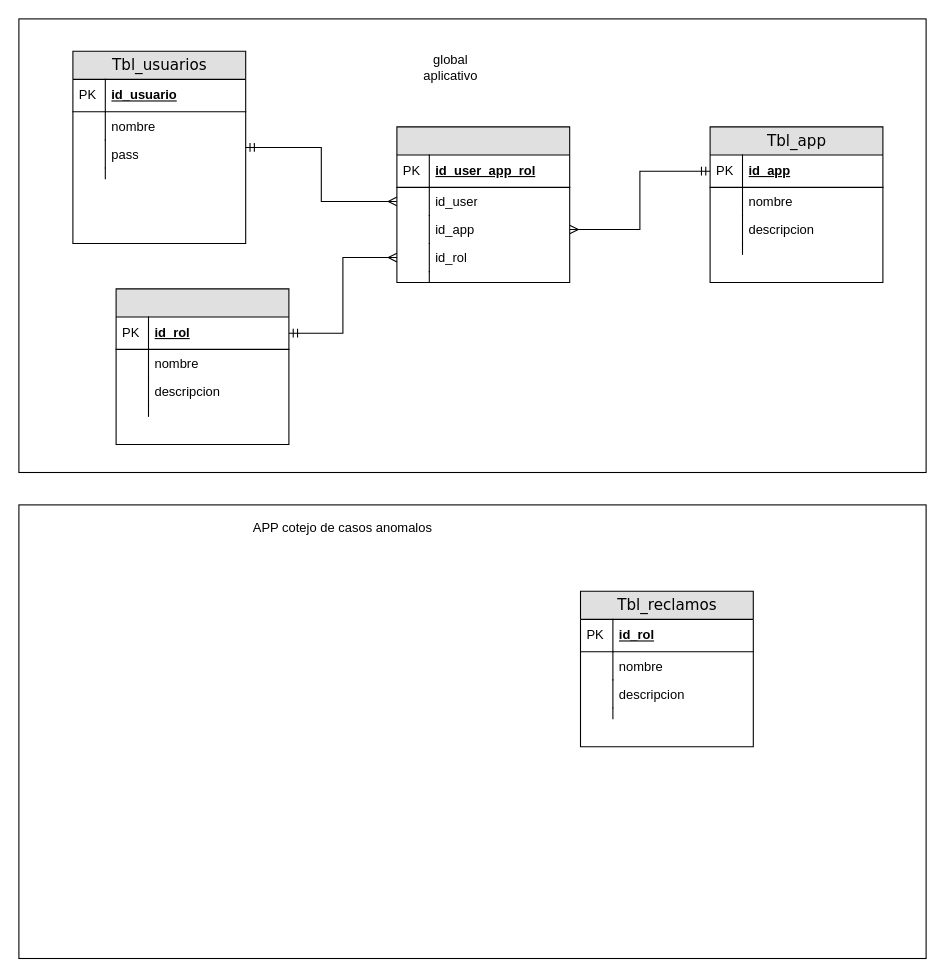
Some shapes in this 945 by 977 pixel diagram are drawn without their labels. The box of each missing label's shape, as (x1, y1, x2, y2) in pixels:
Tbl_roles: (115, 288, 289, 444)
tbl_user_app_rol: (396, 126, 570, 282)
